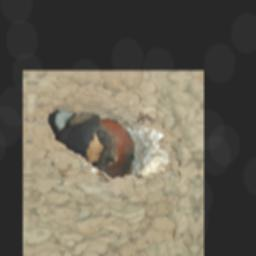Swallow: (55, 115, 136, 179)
